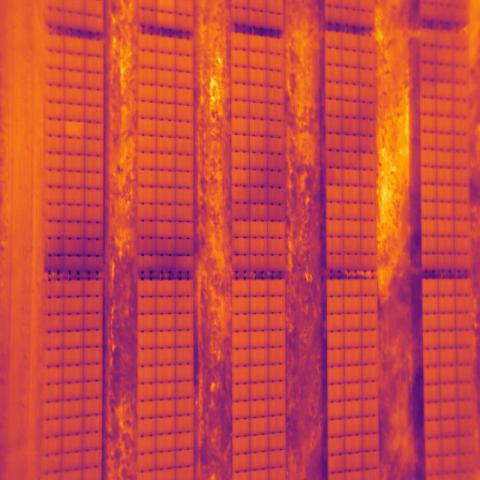fault: (65, 118, 85, 137)
